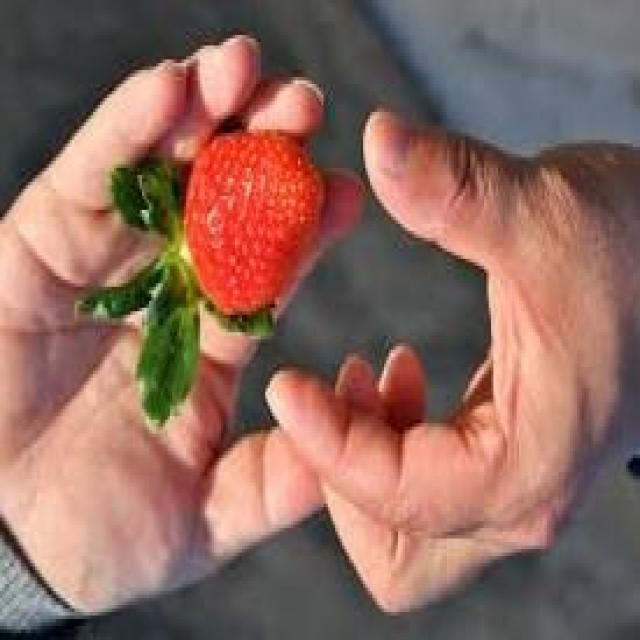mature: (182, 129, 325, 318)
